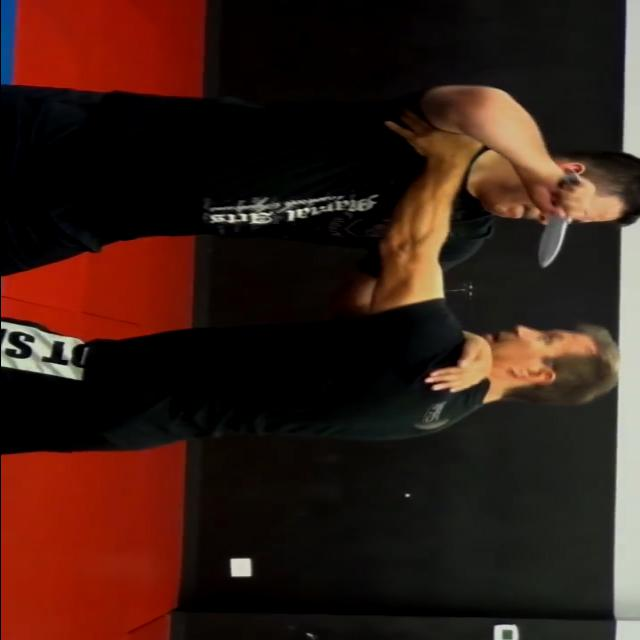knife: (529, 171, 600, 273)
